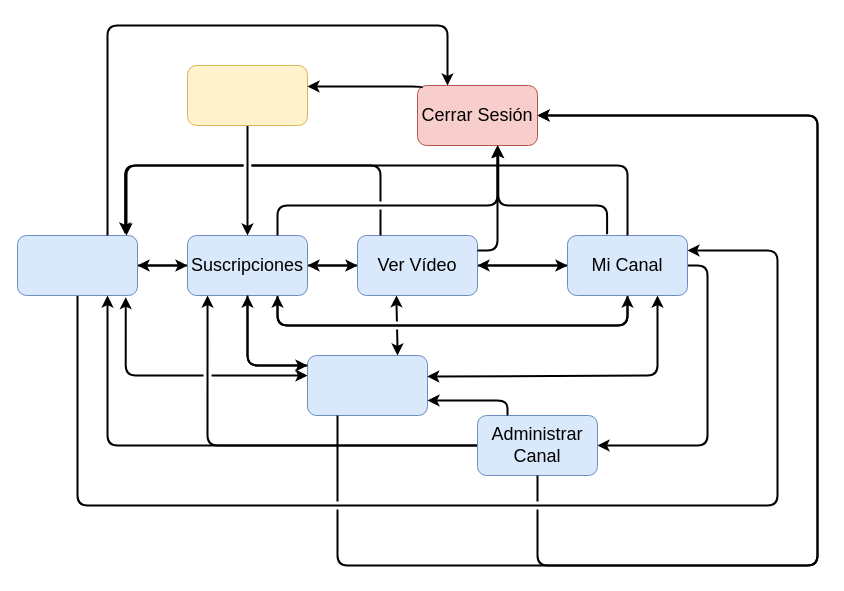
Some shapes in this 844 by 591 pixel diagram are drawn without their labels. The shapes that lost their labels are listed below. From the top down, each one's centre as x and y in pixels, then its label:
the point at 247,95: Login/Registro
the point at 77,265: Subir Vídeo
the point at 367,385: Buscador
